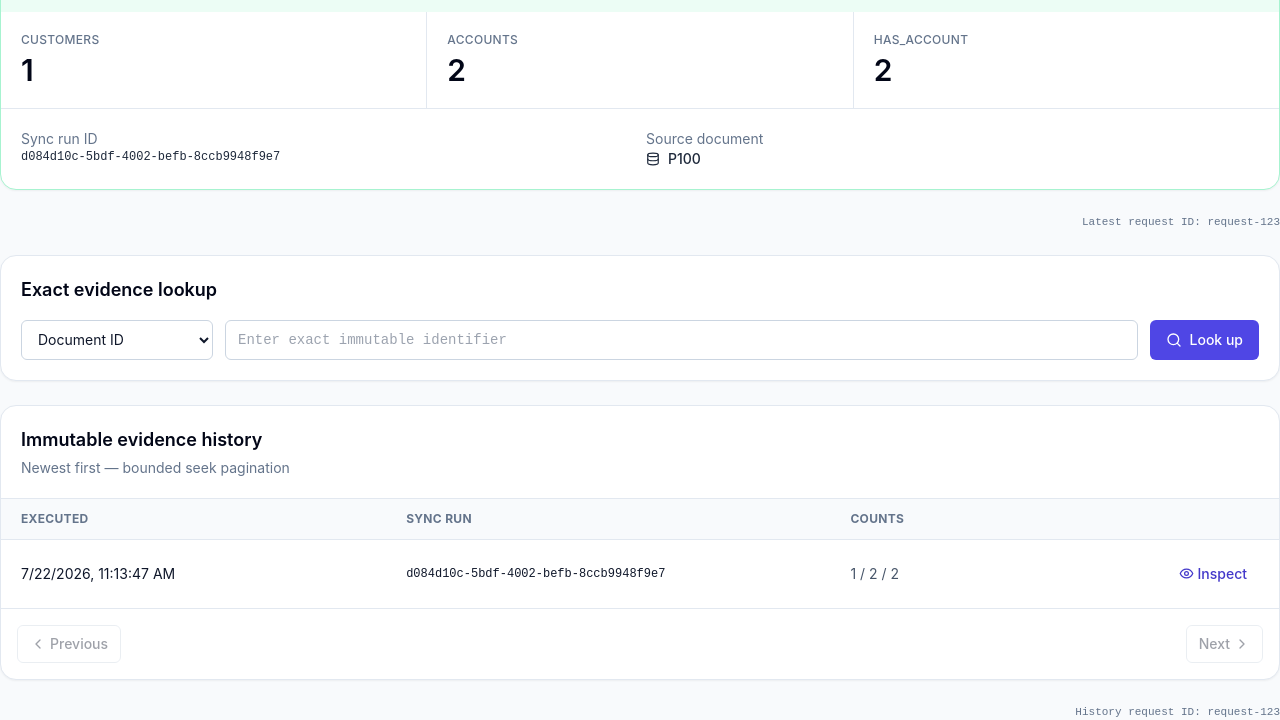
Test: GraphEvidencePage › keeps summary visible when viewer full access is denied
(page scrolled)
Click the button "Inspect": (1213, 574) [1166,556,1259,592]
(page scrolled)
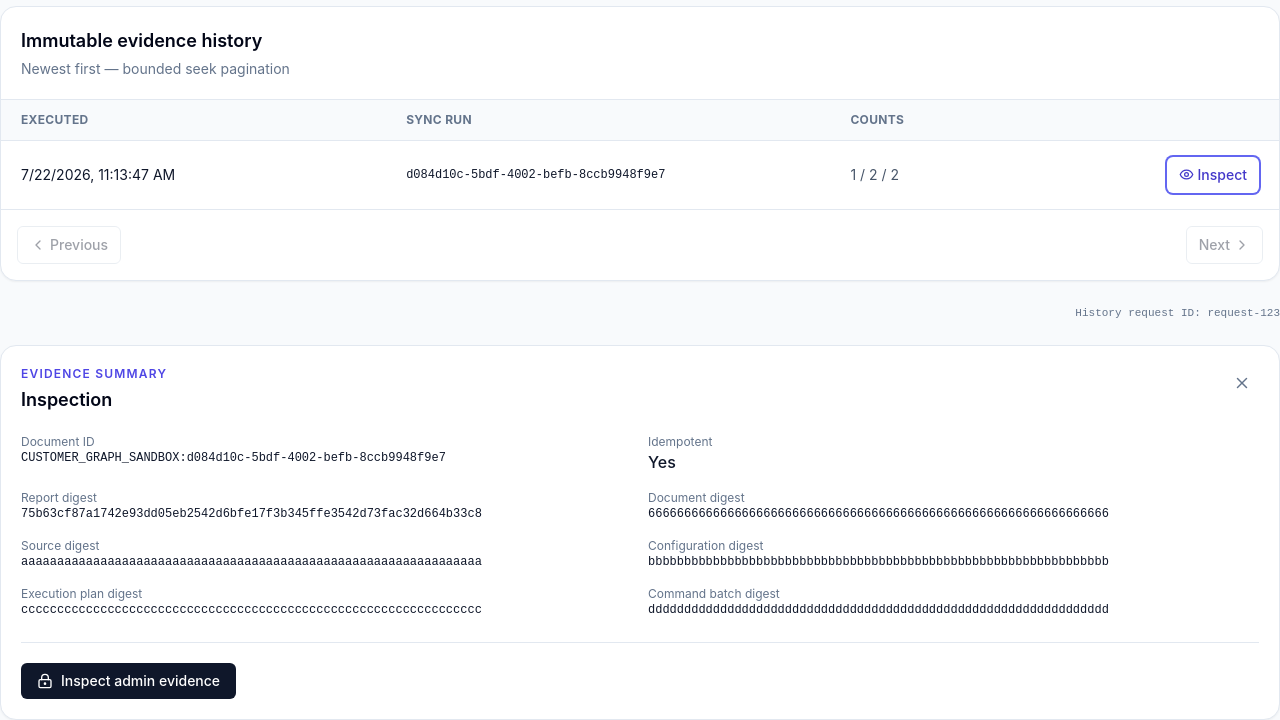
Click the button "Inspect admin evidence": (129, 681) [21,663,236,699]
(page scrolled)
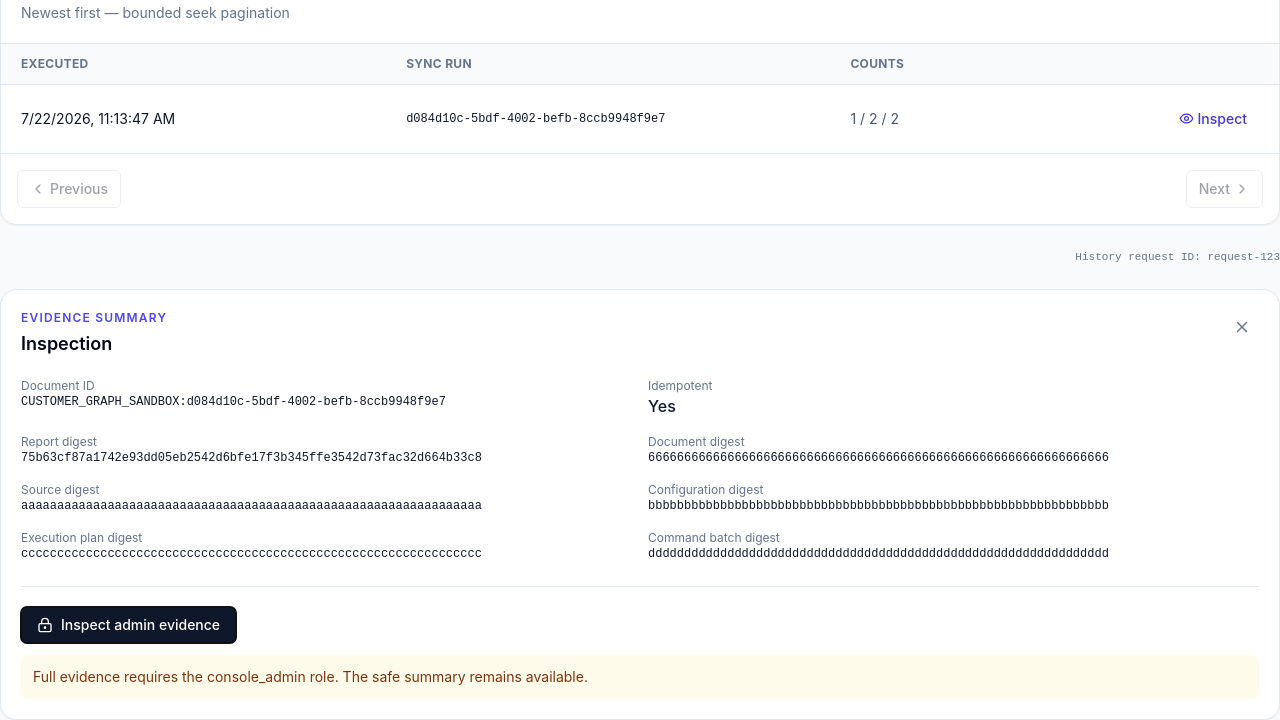
Expected: the text "requires the console_admin role" is shown, [33,668,588,685]
